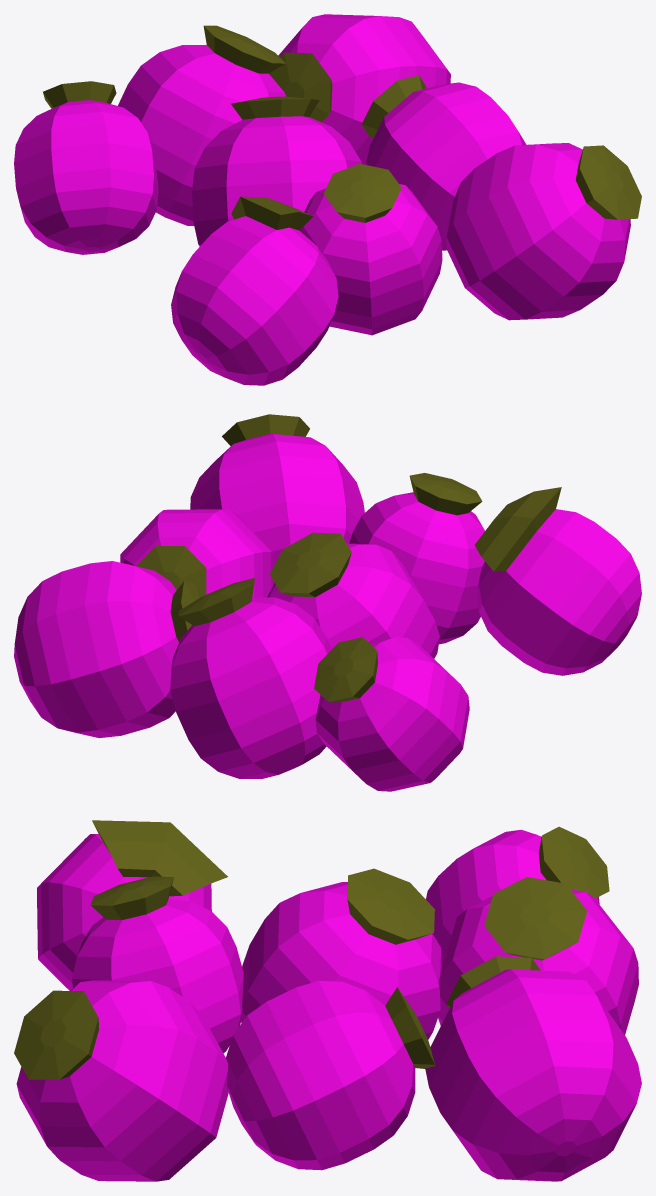
Rendered from Piile of DragonFruit.fbx.
3 renders of one model, top to bottom at view 1: azimuth 30°, elevation 25°; view 2: azimuth 150°, elevation 25°; view 3: azimuth 270°, elevation 25°, orthographic. The views are drawn at different scales.
Parts seen in each view (by area): view 1: Piile of DragonFruit; view 2: Piile of DragonFruit; view 3: Piile of DragonFruit.
Part boxes in pixels (left/top/right/bottom): Piile of DragonFruit: left=14, top=14, right=641, bottom=385; Piile of DragonFruit: left=14, top=414, right=641, bottom=791; Piile of DragonFruit: left=14, top=820, right=641, bottom=1181.
Size of the model in its own units: 20.72 by 8.6 by 22.44.
